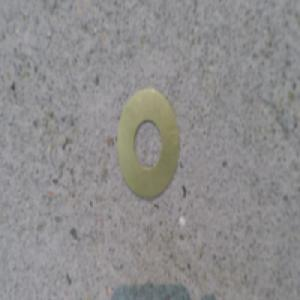Washer: (116, 85, 181, 200)
